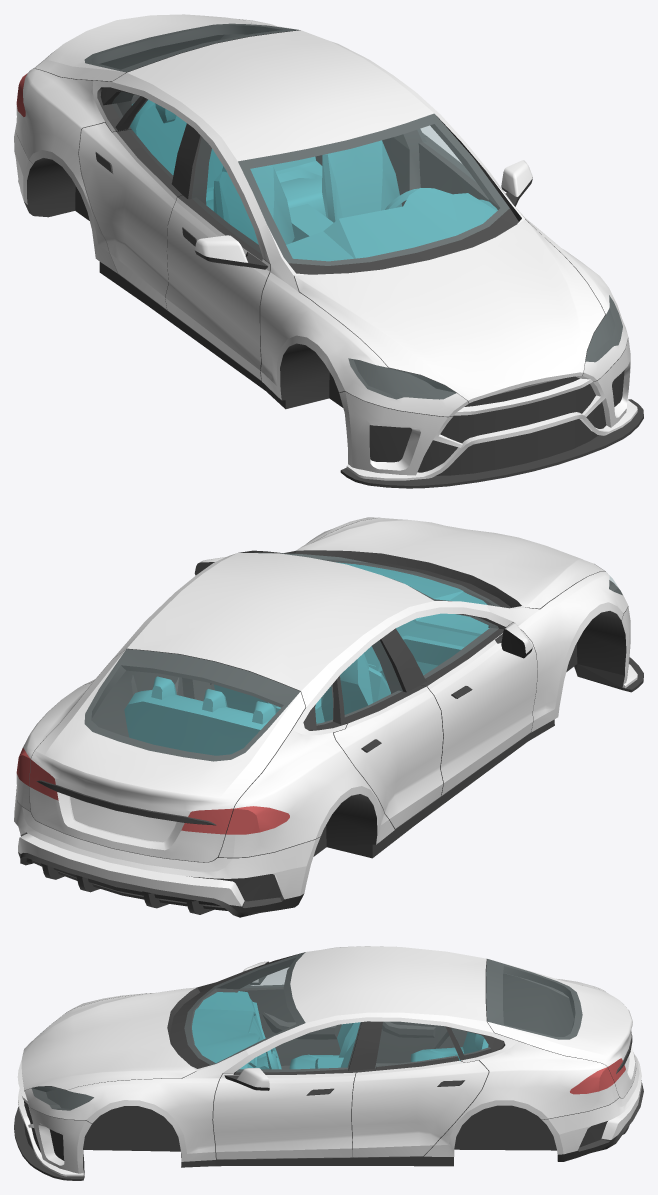
Rendered from Elecric_Car_01.fbx.
The picture shows the model from 3 angles, top to bottom: view 1: azimuth 30°, elevation 25°; view 2: azimuth 150°, elevation 25°; view 3: azimuth 270°, elevation 25°; orthographic projection. The views are drawn at different scales.
Visible parts, largest first — view 1: Electric_Base, Elecric_Hood, Elecric_Door_02, Elecric_Door_04, Electric_Trunk, Elecric_Door_01; view 2: Electric_Base, Electric_Trunk, Elecric_Door_02, Elecric_Door_04, Elecric_Hood, Elecric_Door_03; view 3: Electric_Base, Elecric_Door_01, Elecric_Door_03, Elecric_Hood, Electric_Trunk, Elecric_Door_02, Elecric_Door_04.
Part boxes in pixels (<box>): Electric_Base: <box>14,19,643,488</box>; Elecric_Hood: <box>294,219,605,403</box>; Elecric_Door_02: <box>165,137,270,380</box>; Elecric_Door_04: <box>79,99,186,309</box>; Electric_Trunk: <box>33,14,300,81</box>; Elecric_Door_01: <box>418,126,532,206</box>; Electric_Base: <box>14,517,643,917</box>; Electric_Trunk: <box>29,649,305,862</box>; Elecric_Door_02: <box>396,614,537,795</box>; Elecric_Door_04: <box>334,640,443,828</box>; Elecric_Hood: <box>295,517,604,608</box>; Elecric_Door_03: <box>84,671,183,696</box>; Electric_Base: <box>14,946,643,1180</box>; Elecric_Door_01: <box>213,1022,361,1159</box>; Elecric_Door_03: <box>352,1022,488,1157</box>; Elecric_Hood: <box>21,987,196,1091</box>; Electric_Trunk: <box>486,959,636,1098</box>; Elecric_Door_02: <box>238,961,341,1065</box>; Elecric_Door_04: <box>376,1021,447,1063</box>.
Bounding box in the file's own units: 219 × 131 × 487.
